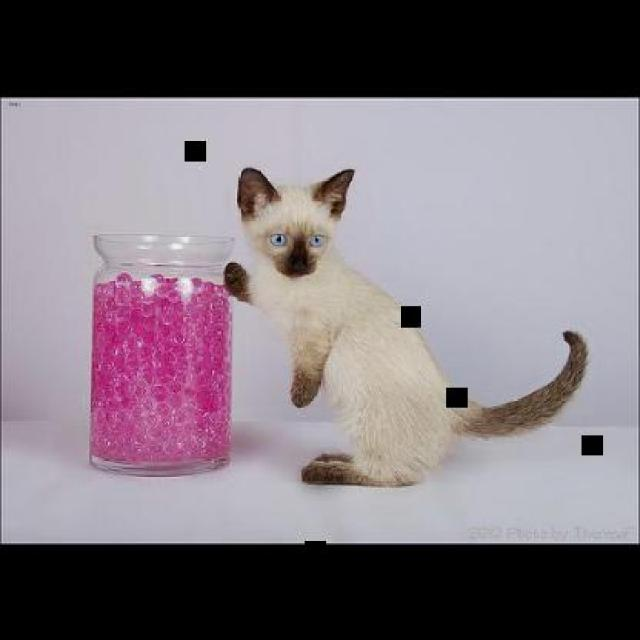unauthorized: (222, 166, 588, 488)
